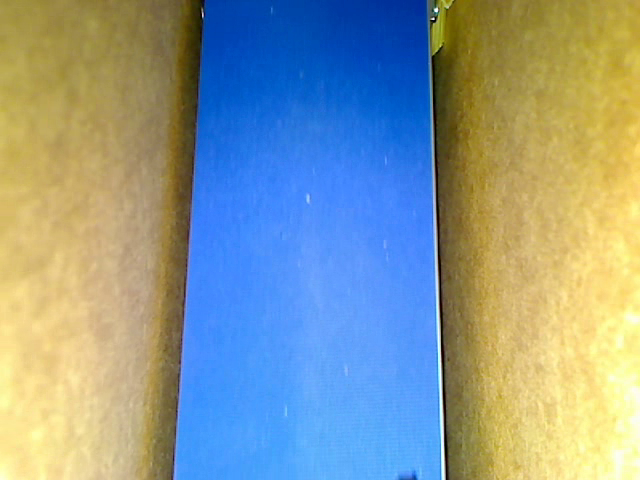penne: (430, 1, 446, 59), (441, 1, 455, 14)
